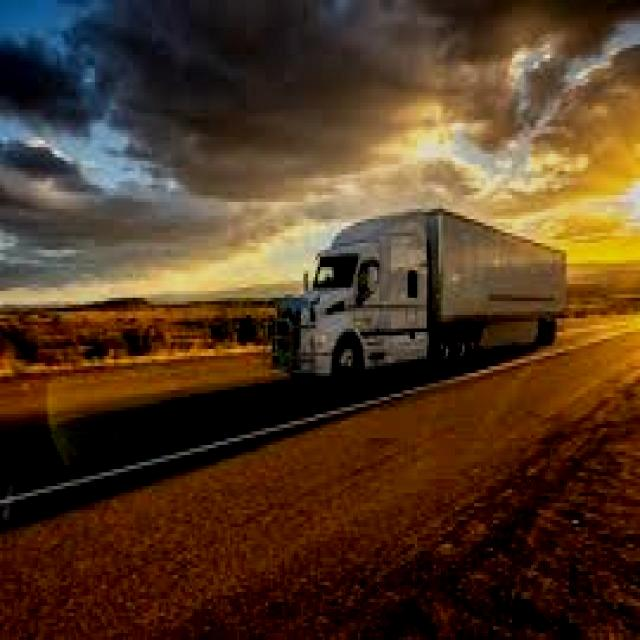TRUCK: (272, 202, 569, 387)
